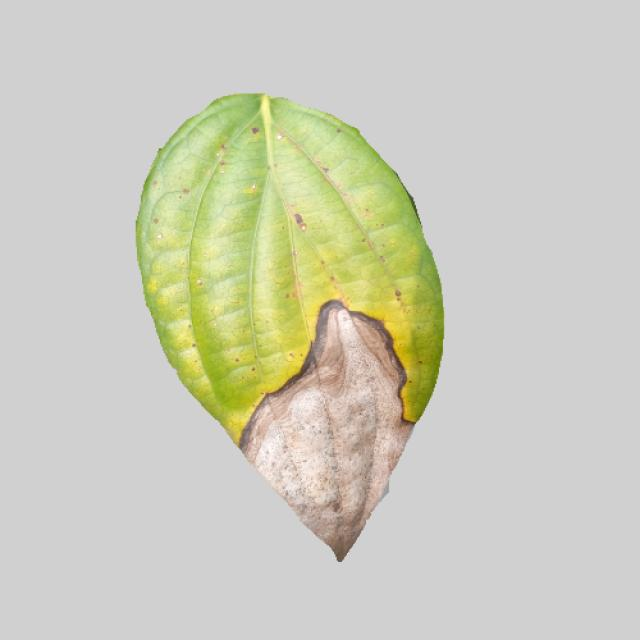leaf-blight: (133, 95, 442, 558)
